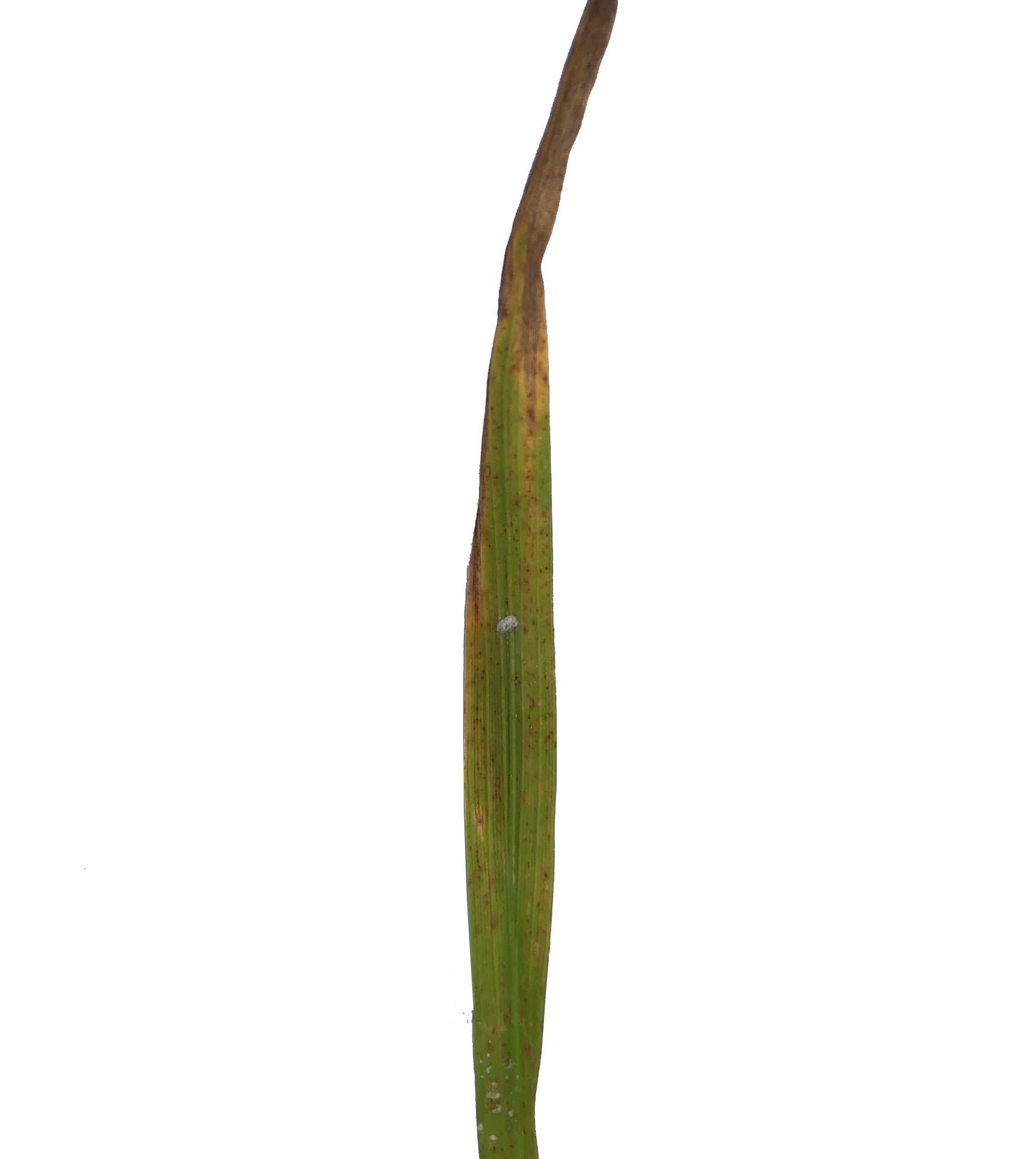Tungro: (461, 0, 621, 1159)
